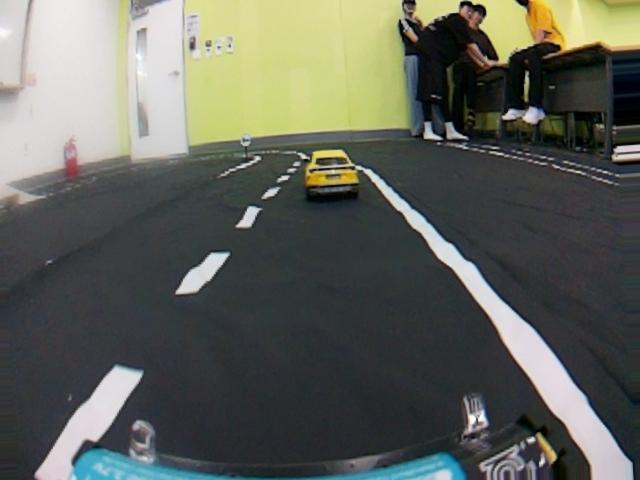car: (301, 145, 373, 196)
straight: (36, 221, 640, 468)
